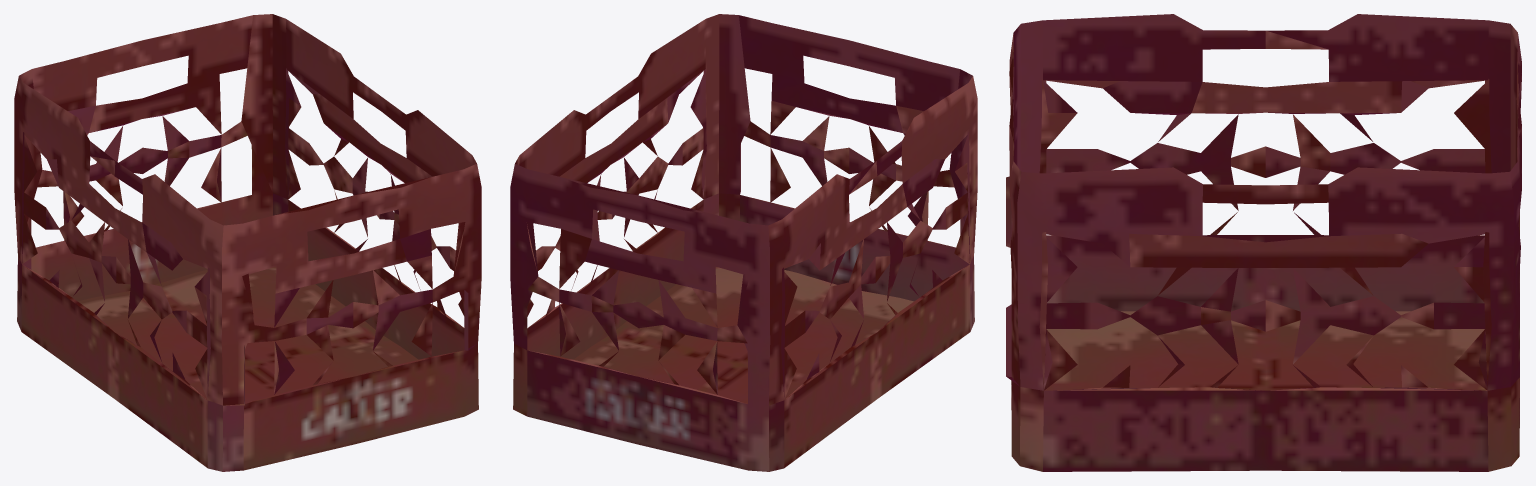
Rendered from plastic_crate_01.glb.
3 views of the same model, side by side, from view 1: azimuth 30°, elevation 25°; view 2: azimuth 150°, elevation 25°; view 3: azimuth 270°, elevation 25° (orthographic). The views are drawn at different scales.
Parts seen in each view (by area): view 1: mesh; view 2: mesh; view 3: mesh.
Boxes of the visible parts, bbox=[...] form: mesh: bbox=[14, 14, 481, 471]; mesh: bbox=[510, 14, 977, 471]; mesh: bbox=[1006, 14, 1521, 471].
Bounding box in the file's own units: 0.2939 × 0.2642 × 0.4071.
Materials: 1 (1 with a texture image).
